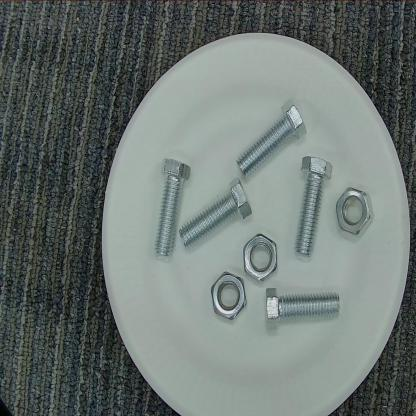FOD: (233, 97, 308, 180), (176, 175, 254, 251), (294, 154, 334, 266), (264, 282, 346, 330), (157, 153, 190, 263), (334, 182, 376, 244), (210, 269, 249, 326), (243, 230, 278, 284)
